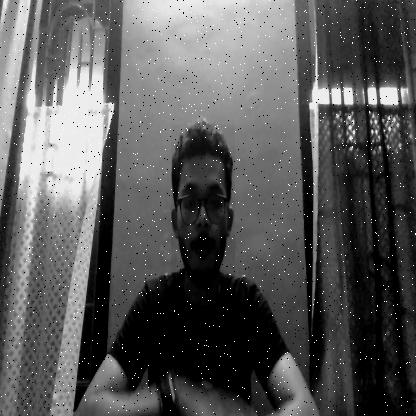Normal: (171, 124, 235, 278)
